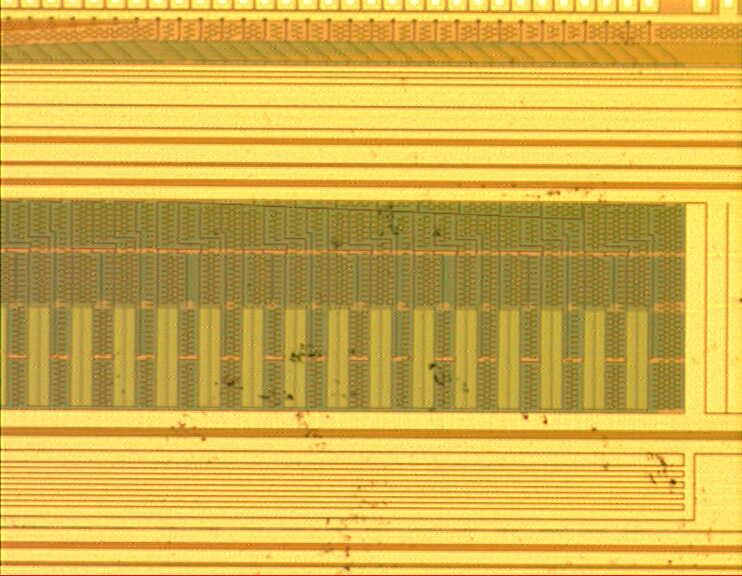PO CONTAMINATION: (154, 49, 742, 576)
